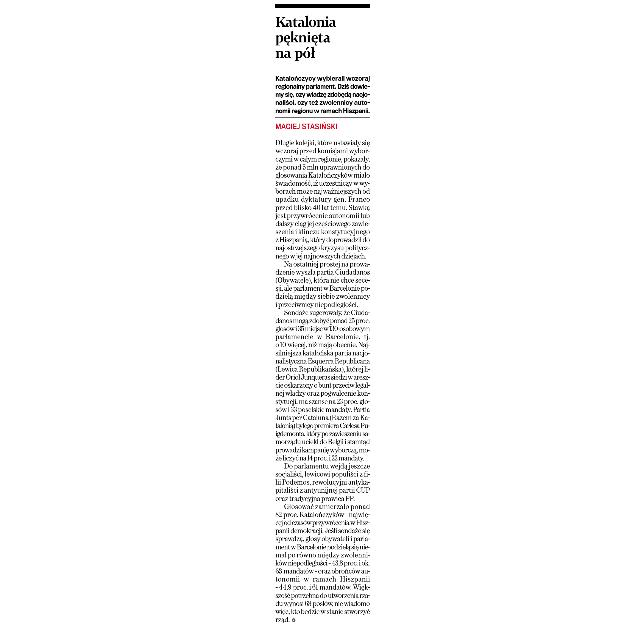author: (274, 120, 340, 132)
body: (273, 137, 372, 625)
lead: (273, 72, 371, 116)
title: (274, 13, 342, 61)
